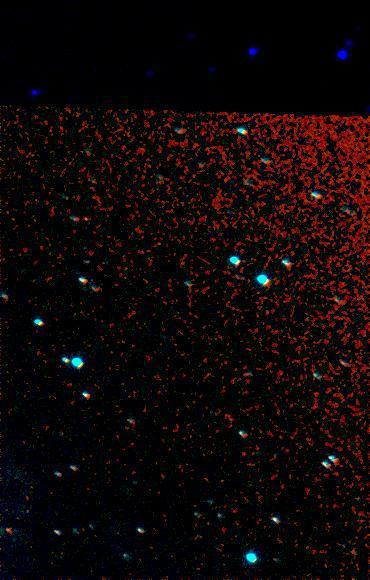star: (0, 516, 24, 546)
